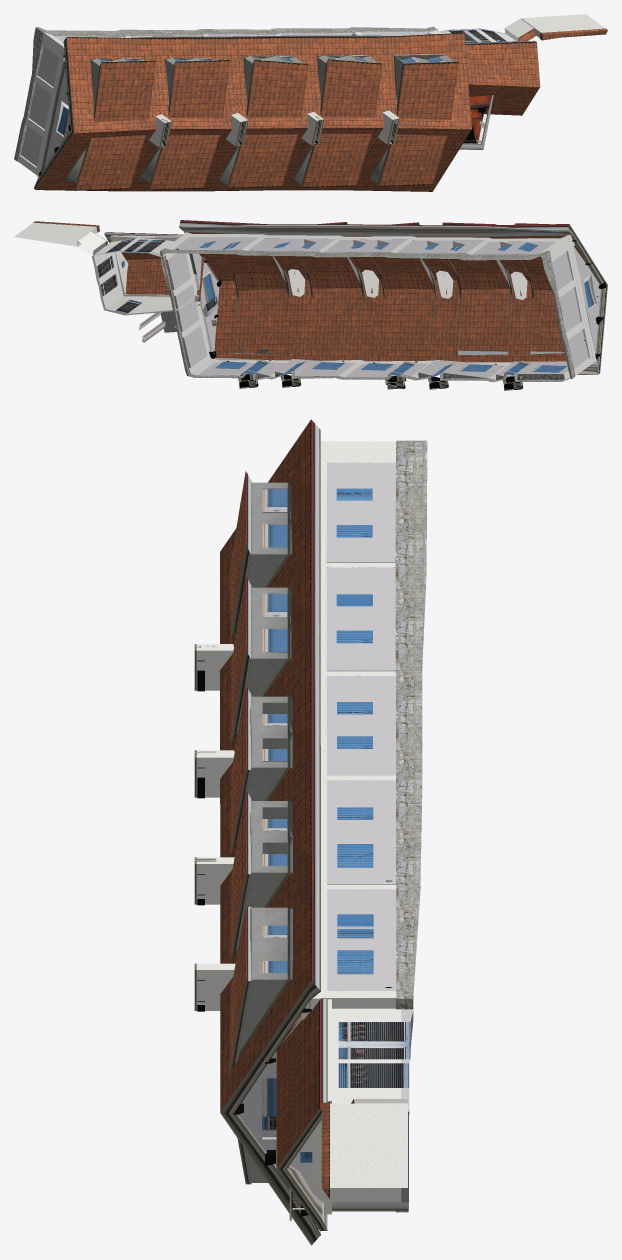
File: Suurtyki_4a_2-origo.obj
The picture shows the model from 3 angles, top to bottom: view 1: azimuth 30°, elevation 25°; view 2: azimuth 150°, elevation 25°; view 3: azimuth 270°, elevation 25°; orthographic projection. The views are drawn at different scales.
Visible parts, largest first — view 1: Suurtyki_4a_2; view 2: Suurtyki_4a_2; view 3: Suurtyki_4a_2.
Part boxes in pixels (x1,y1,x2,y2): Suurtyki_4a_2: (14, 14, 607, 191); Suurtyki_4a_2: (14, 220, 607, 390); Suurtyki_4a_2: (194, 419, 427, 1245).
Size of the model in its own units: 51.81 by 21 by 9.27.
